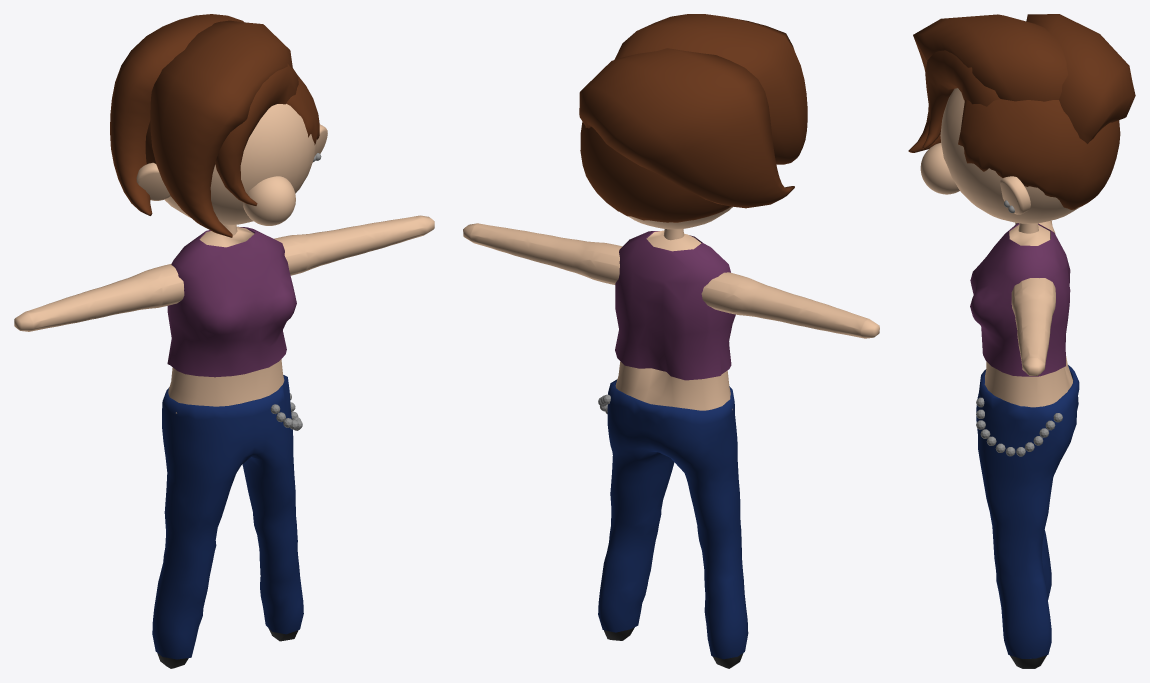
The model's file is crush.fbx.
3 views of the same model, side by side, from view 1: azimuth 30°, elevation 25°; view 2: azimuth 150°, elevation 25°; view 3: azimuth 270°, elevation 25° (orthographic). The views are drawn at different scales.
Visible parts, largest first — view 1: Crush; view 2: Crush; view 3: Crush.
Part boxes in pixels (box(x1,y1,x2,y2)): Crush: box(14, 14, 434, 668); Crush: box(463, 14, 879, 668); Crush: box(908, 14, 1135, 668).
Size of the model in its own units: 139 by 67.25 by 200.
